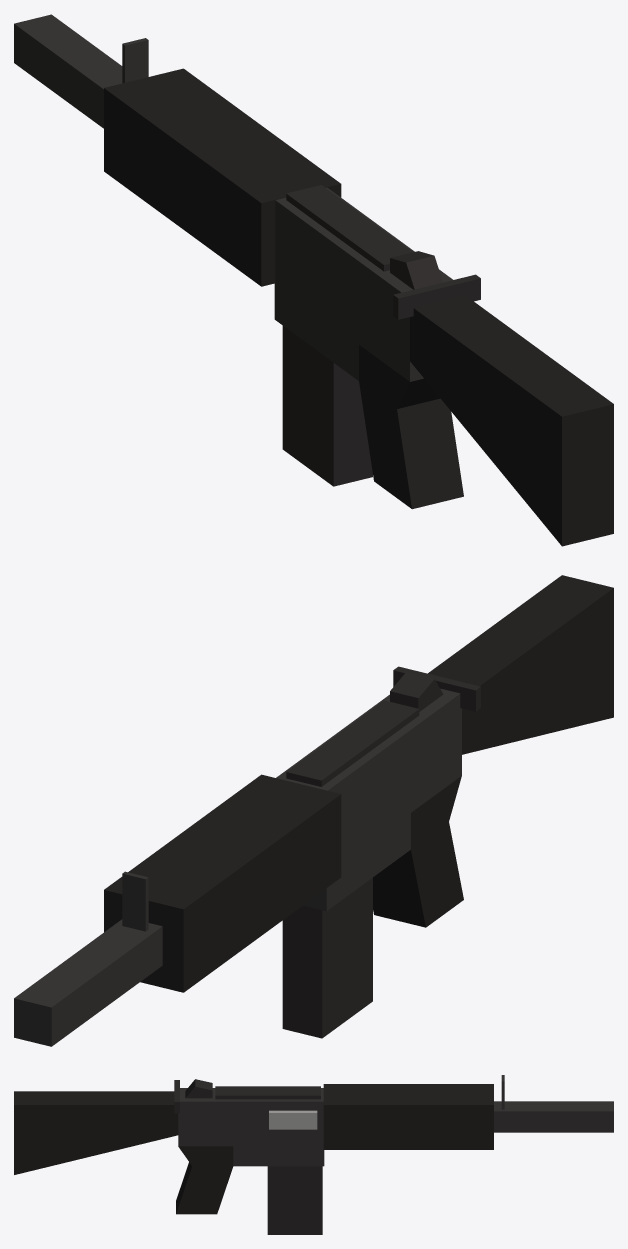
The model's file is AutoRifle4.FBX.
3 renders of one model, top to bottom at view 1: azimuth 30°, elevation 25°; view 2: azimuth 150°, elevation 25°; view 3: azimuth 270°, elevation 25°, orthographic. The views are drawn at different scales.
Visible parts, largest first — view 1: AutoRifle4, AutoRifle4_mag; view 2: AutoRifle4, AutoRifle4_mag; view 3: AutoRifle4, AutoRifle4_mag.
Part boxes in pixels (bbox=[...]): AutoRifle4: bbox=[14, 14, 613, 546]; AutoRifle4_mag: bbox=[282, 326, 372, 486]; AutoRifle4: bbox=[14, 575, 613, 1046]; AutoRifle4_mag: bbox=[282, 877, 372, 1038]; AutoRifle4: bbox=[14, 1075, 613, 1214]; AutoRifle4_mag: bbox=[267, 1166, 322, 1234].
Bounding box in the file's own units: 15.53 × 181 × 50.41.
